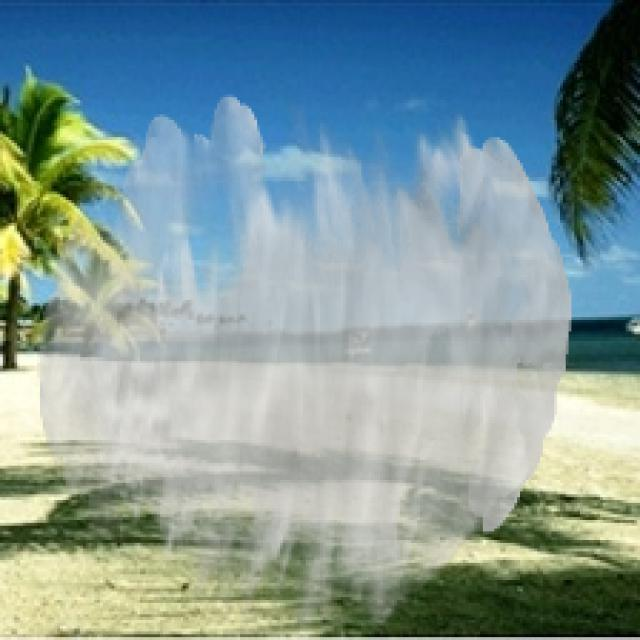Smoke: (37, 94, 572, 632)
